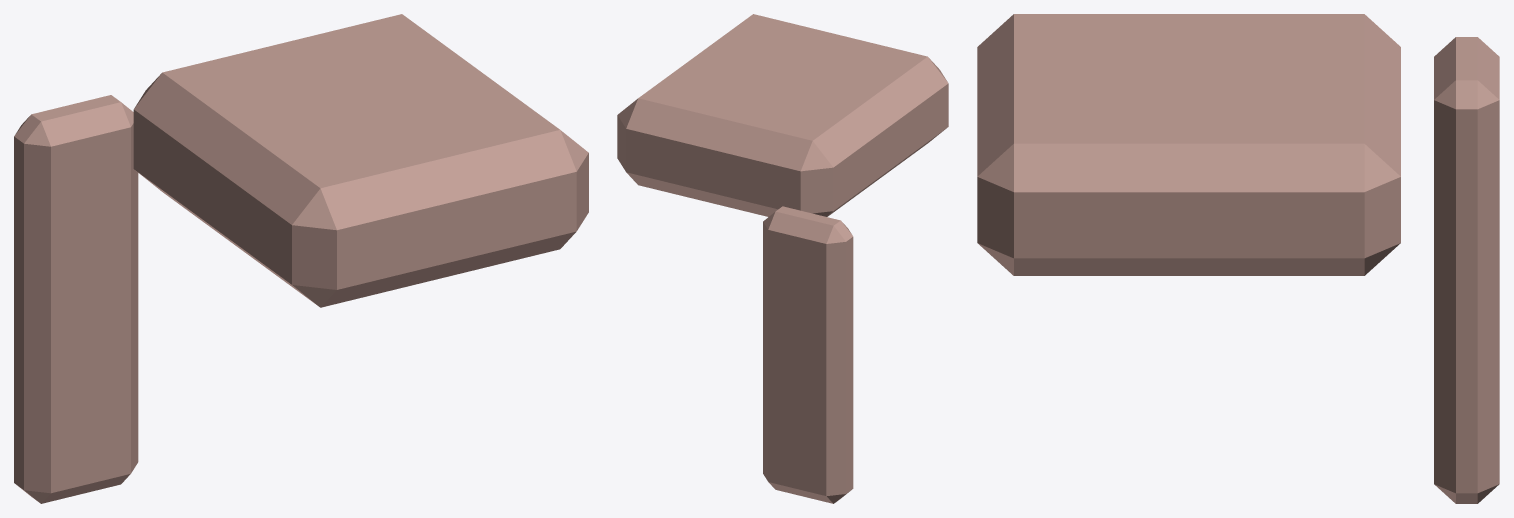
The model's file is SM_NPC_Accessory_00_Scarf.glb.
The picture shows the model from 3 angles, left to right: view 1: azimuth 30°, elevation 25°; view 2: azimuth 150°, elevation 25°; view 3: azimuth 270°, elevation 25°; orthographic projection. The views are drawn at different scales.
Parts seen in each view (by area): view 1: SM_NPC_Accessory_00_Scarf; view 2: SM_NPC_Accessory_00_Scarf; view 3: SM_NPC_Accessory_00_Scarf.
Part boxes in pixels (x1=…): SM_NPC_Accessory_00_Scarf: x1=14, y1=14, x2=588, y2=503; SM_NPC_Accessory_00_Scarf: x1=617, y1=14, x2=948, y2=503; SM_NPC_Accessory_00_Scarf: x1=977, y1=14, x2=1499, y2=503.
Bounding box in the file's own units: 0.32 × 0.37 × 0.3575.
